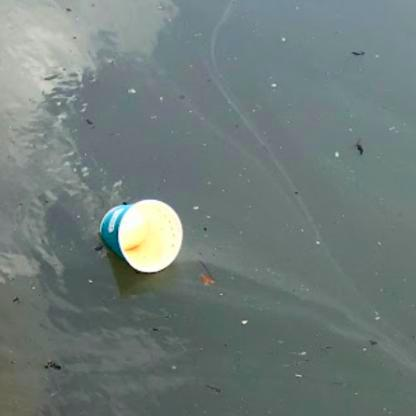Plastic: (93, 196, 185, 279)
